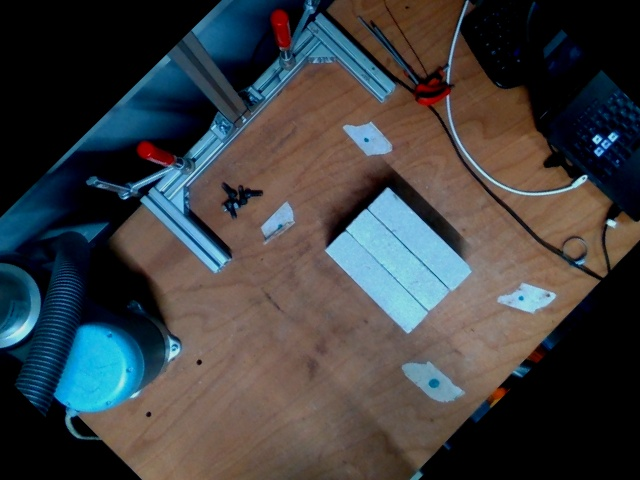brick-side: (345, 208, 448, 313), (369, 187, 472, 290), (326, 232, 427, 333)
